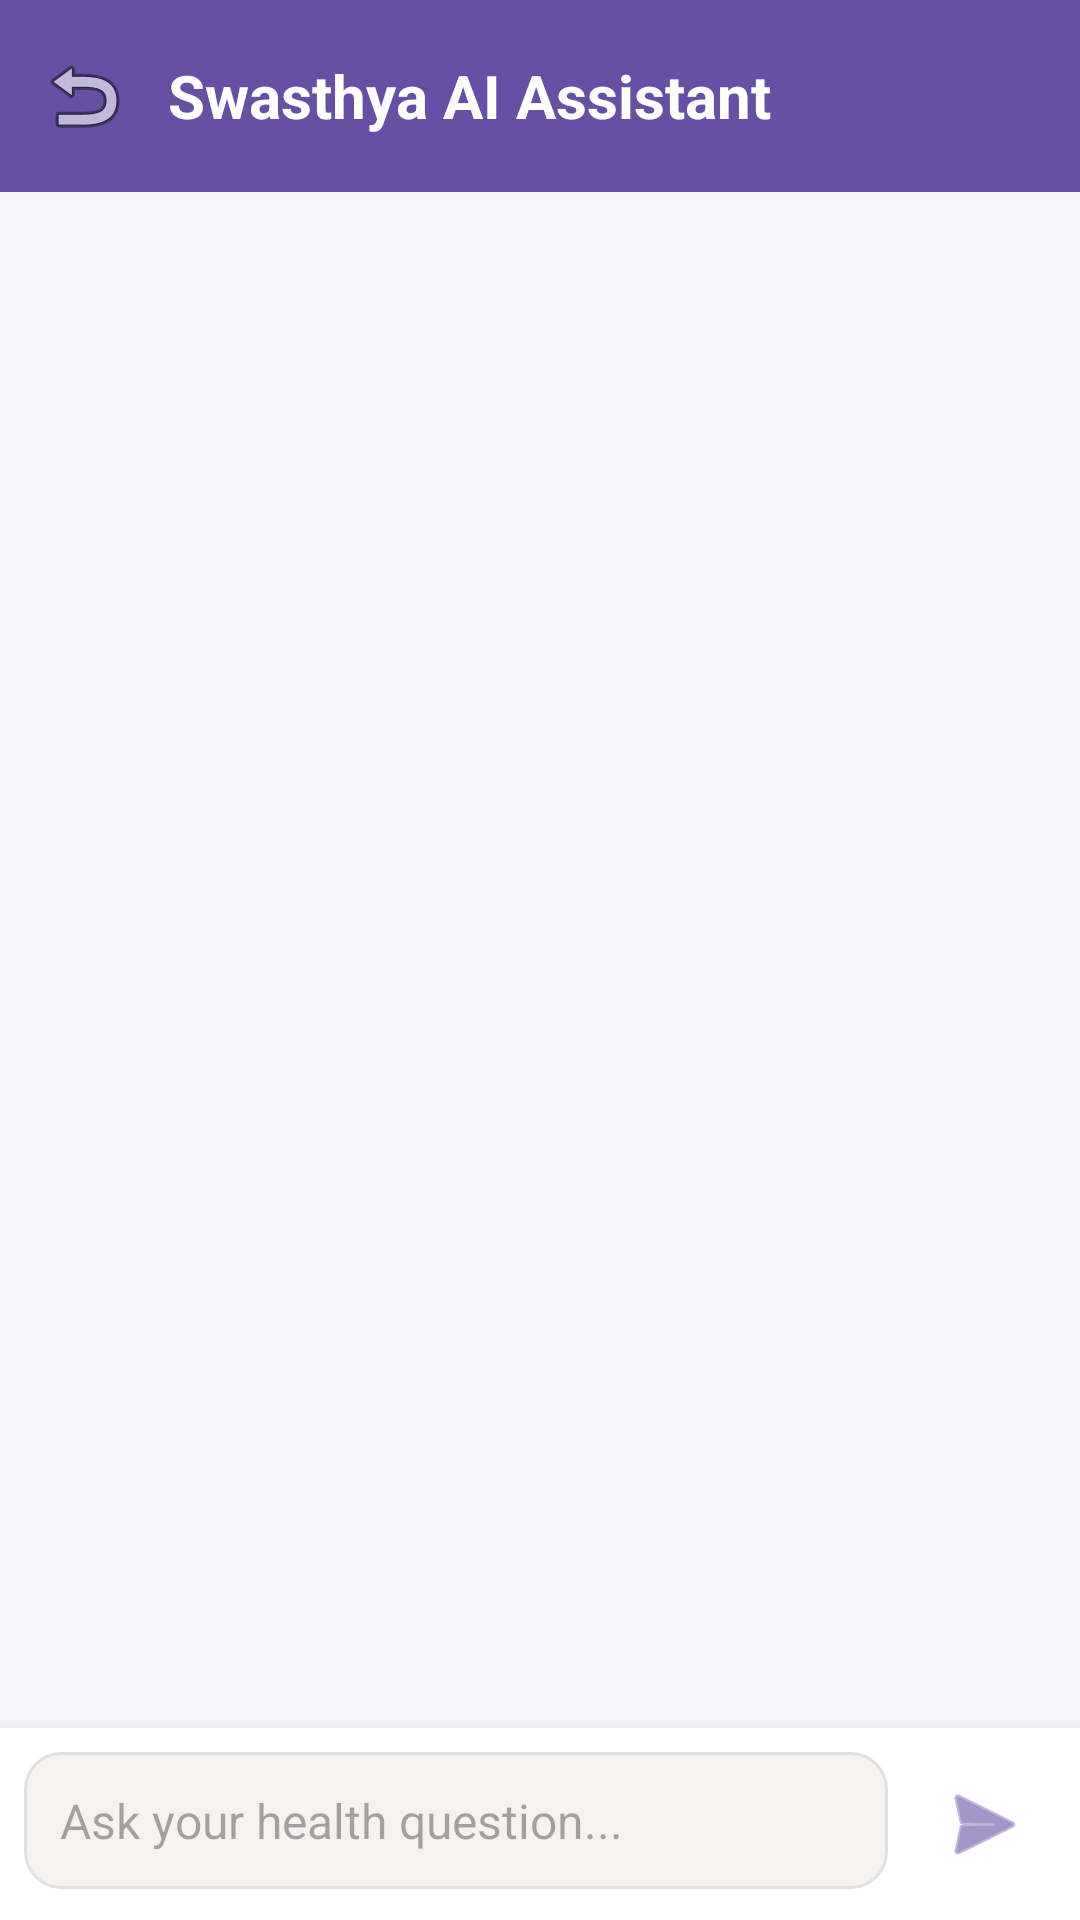

Named icons in this screenshot (1080x1920) and their bounding boxes, [x1, y1, x2, y2]:
send: [954, 1794, 1015, 1855]
